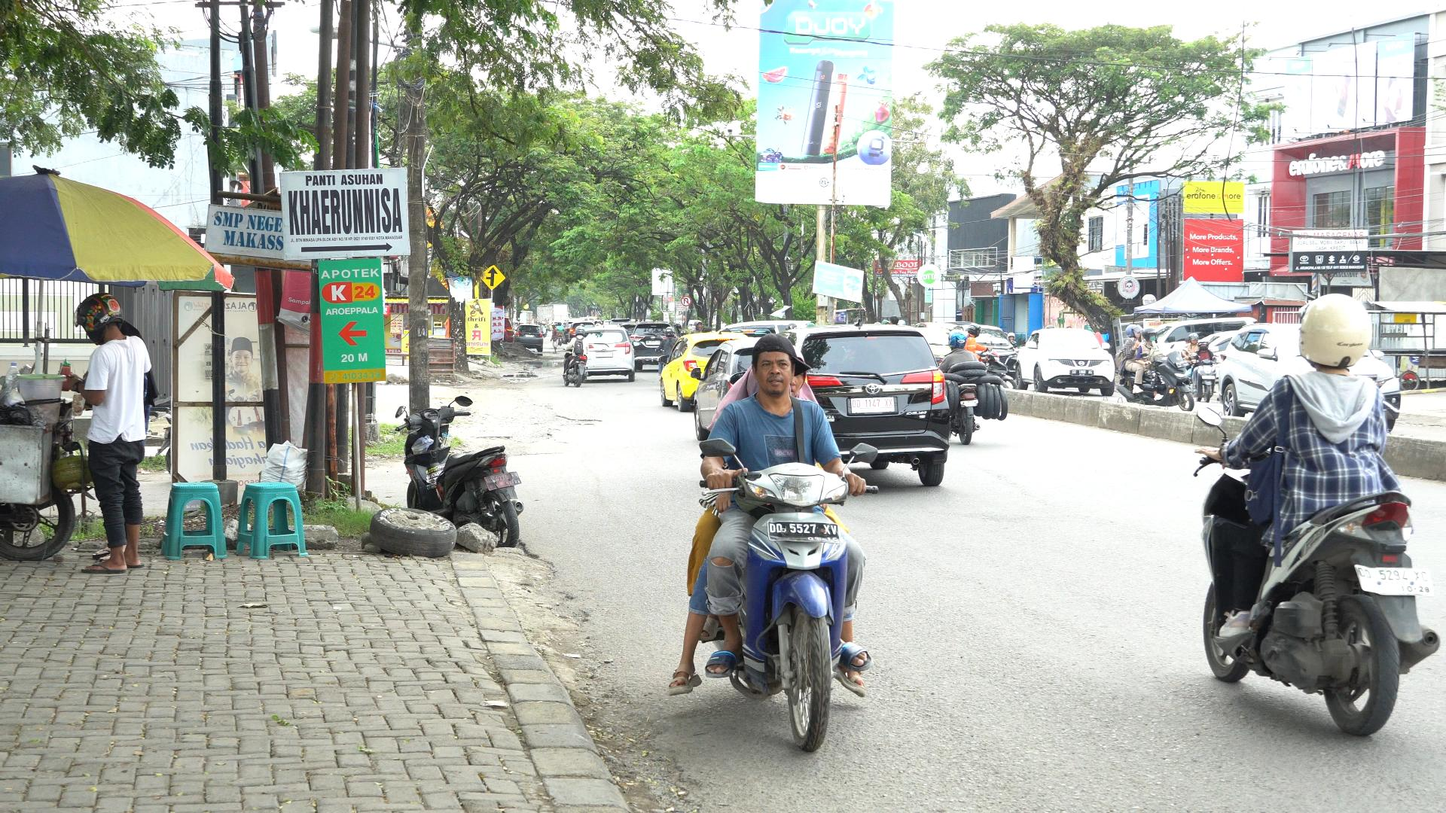number-plate: (766, 510, 842, 541)
